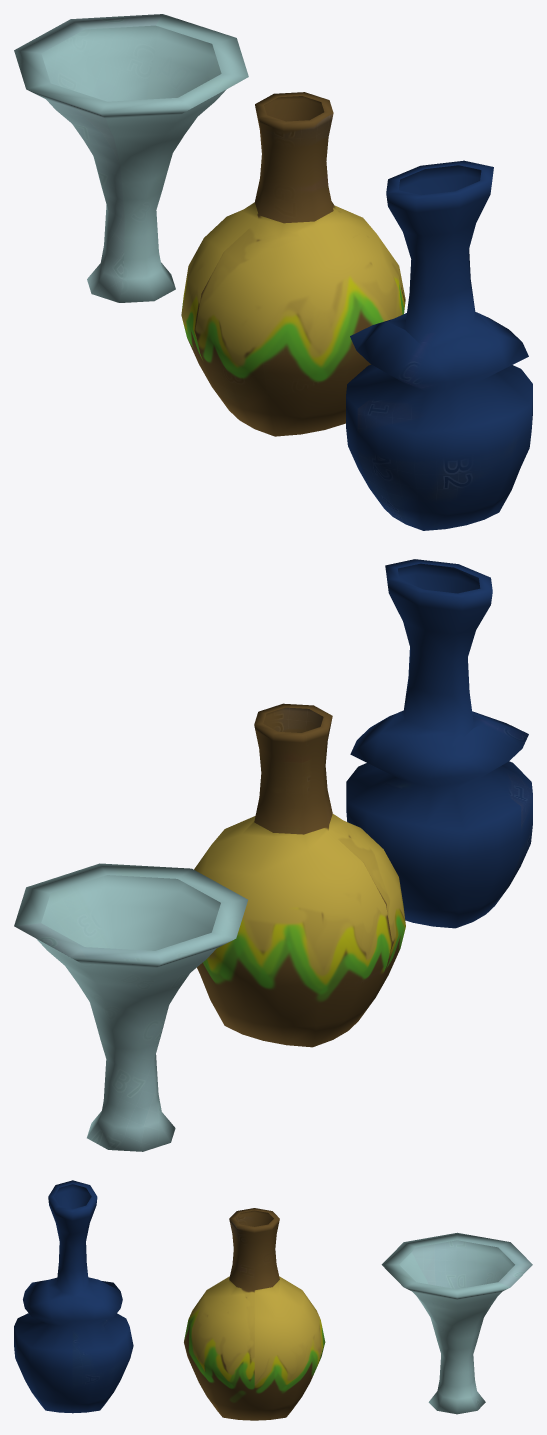
File: SC_Vases.fbx
The picture shows the model from 3 angles, top to bottom: view 1: azimuth 30°, elevation 25°; view 2: azimuth 150°, elevation 25°; view 3: azimuth 270°, elevation 25°; orthographic projection. The views are drawn at different scales.
Parts seen in each view (by area): view 1: SC_Vase_003, SC_Vase_002, SC_Vase_001; view 2: SC_Vase_003, SC_Vase_002, SC_Vase_001; view 3: SC_Vase_003, SC_Vase_002, SC_Vase_001.
Boxes of the visible parts, box(x1,y1,x2,y2) form: SC_Vase_003: box(181, 92, 405, 436); SC_Vase_002: box(346, 160, 532, 530); SC_Vase_001: box(14, 14, 248, 302); SC_Vase_003: box(194, 703, 405, 1047); SC_Vase_002: box(346, 559, 532, 928); SC_Vase_001: box(14, 863, 247, 1151); SC_Vase_003: box(184, 1208, 325, 1420); SC_Vase_002: box(14, 1180, 133, 1413); SC_Vase_001: box(381, 1232, 532, 1414).
Size of the model in its own units: 143 by 217 by 491.
3 materials, 3 textured.
